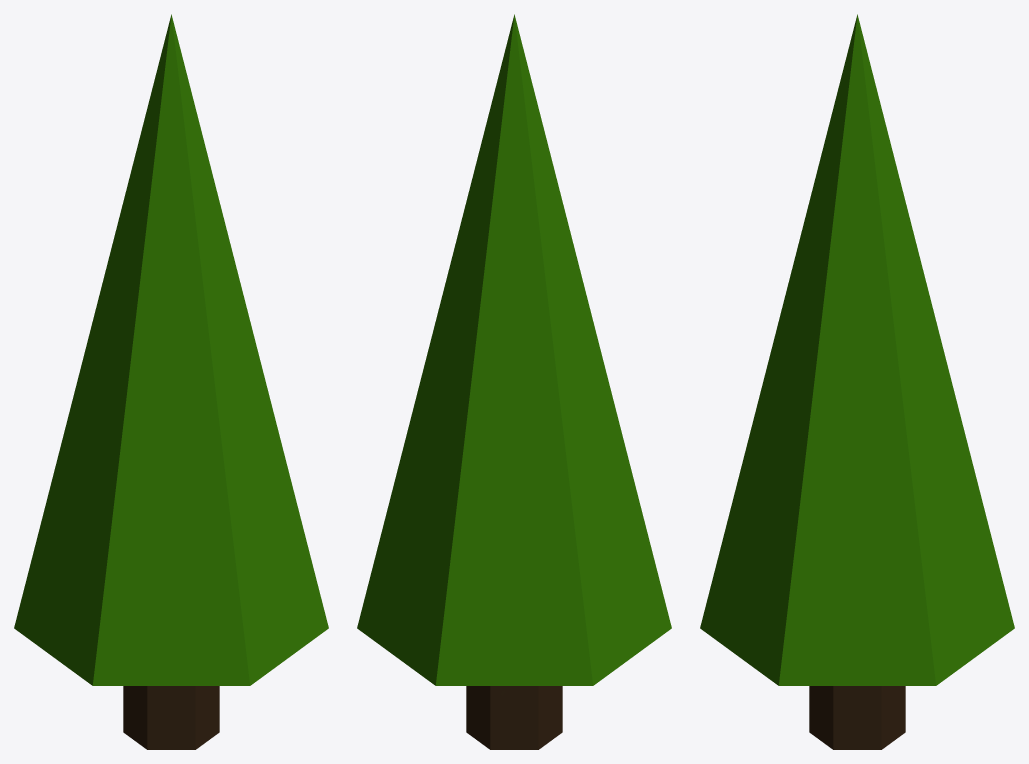
File: tree.gltf
3 renders of one model, left to right at view 1: azimuth 30°, elevation 25°; view 2: azimuth 150°, elevation 25°; view 3: azimuth 270°, elevation 25°, orthographic.
Visible parts, largest first — view 1: Cone; view 2: Cone; view 3: Cone.
Part boxes in pixels (bbox=[...]): Cone: bbox=[14, 14, 328, 749]; Cone: bbox=[357, 14, 671, 749]; Cone: bbox=[700, 14, 1014, 749].
Bounding box in the file's own units: 1.73 × 5.03 × 2.
1 material, 1 textured.
